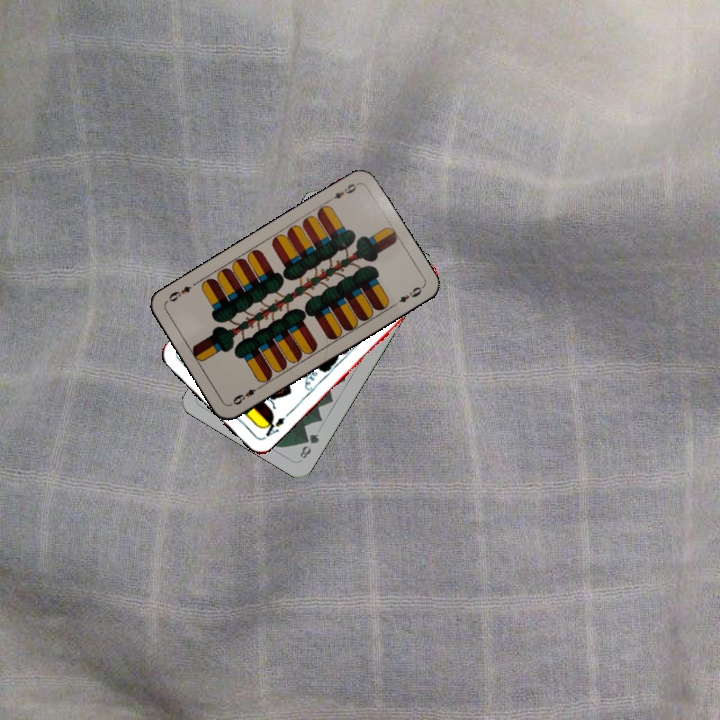E9: (324, 179, 361, 205), (228, 382, 264, 408)
EA: (258, 412, 288, 442)
G8: (296, 429, 322, 461)
